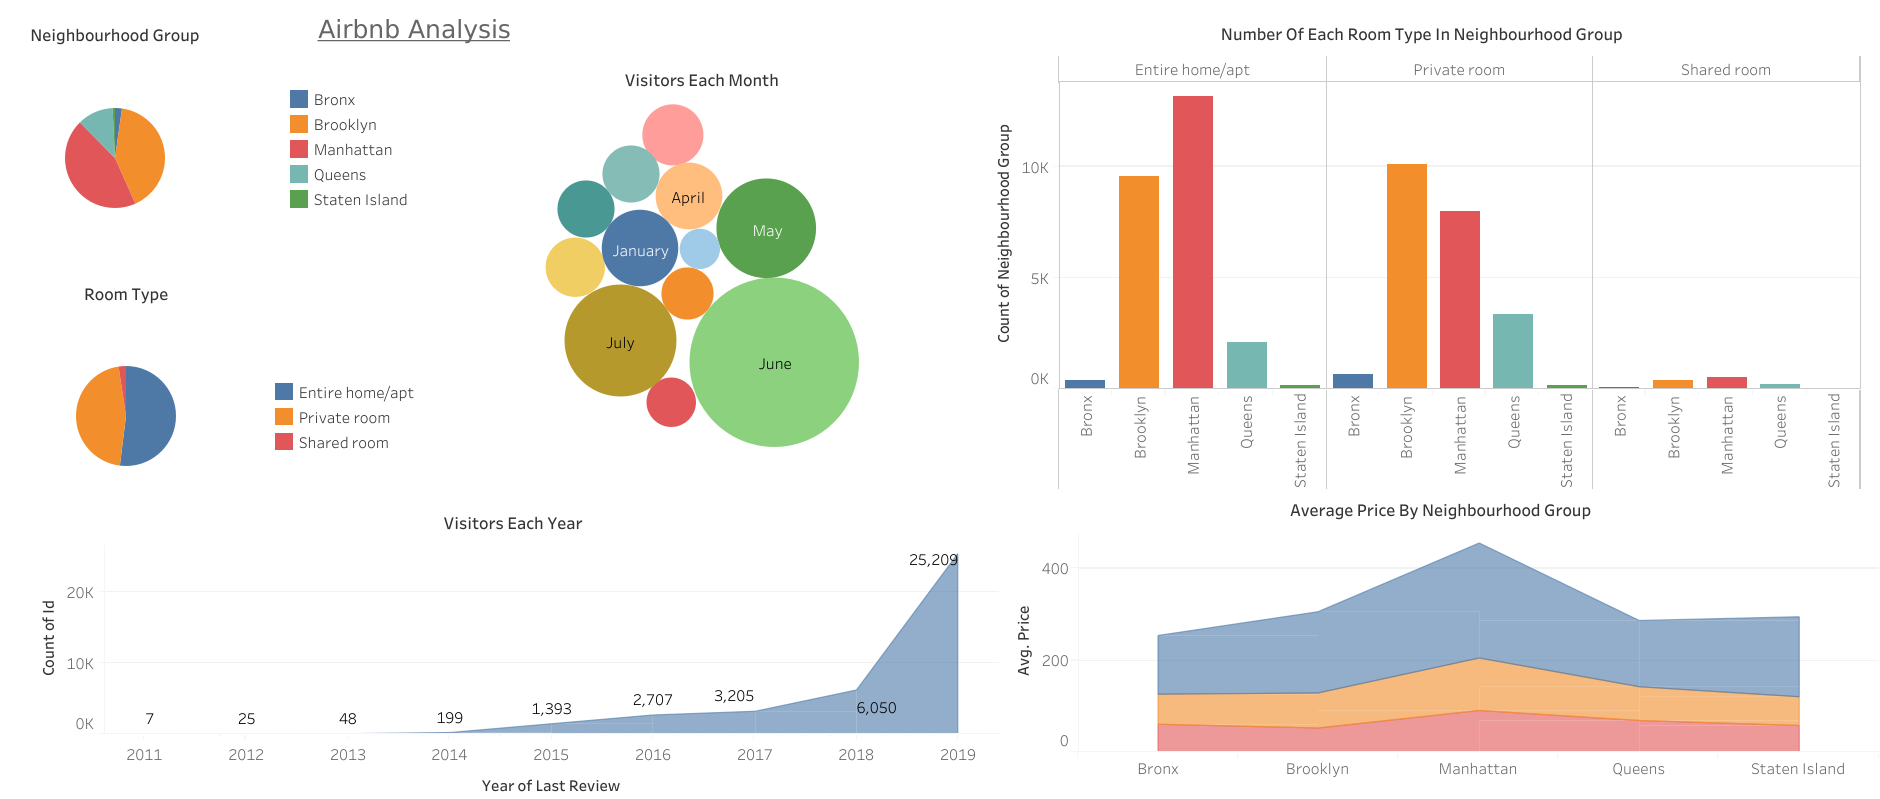

The page's visual inventory and layout, read from the dashboard file:
{"tool":"tableau","page":{"name":"Dashboard 1","canvas":[1000,1000],"units":"permille","ordinal":0},"visuals":[{"type":"worksheet","title":"Sheet 1","mark":"Pie","box":[5.2,9.3,886.5,981.4]},{"type":"worksheet","title":"Sheet 6","mark":"Automatic","rows":["neighbourhood_group"],"cols":["room_type","neighbourhood_group"],"box":[522.6,17.4,467.1,595.4]},{"type":"worksheet","title":"Sheet 4","mark":"Circle","box":[281.9,74.4,284.5,483.7]},{"type":"legend","title":"Sheet 1","param":"[federated.0ozpobe1gnkda6117nlti1aoa0l7].[none:neighbourhood_group:nk]","box":[152.3,108.1,90.3,193]},{"type":"worksheet","title":"Sheet 2","mark":"Pie","box":[14.2,341.9,134.8,358.1]},{"type":"legend","title":"Sheet 2","param":"[federated.0ozpobe1gnkda6117nlti1aoa0l7].[none:room_type:nk]","box":[143.9,473.3,116.1,119.8]},{"type":"worksheet","title":"Sheet 5","mark":"Area","rows":["price"],"cols":["neighbourhood_group"],"box":[532.9,612.8,465.8,389.5]}]}

Visuals, with their boxes on the dashboard's canvas, which has no fixed pixel size, in thousandths of its width and height (x1, y1, x2, y2). These are canvas units, not pixel positions in the 1880x799 screenshot, which may show the page scaled, cropped or inside an application window:
"Sheet 1" worksheet (Pie marks): (x1=5, y1=9, x2=892, y2=991)
"Sheet 6" worksheet: (x1=523, y1=17, x2=990, y2=613)
"Sheet 4" worksheet (Circle marks): (x1=282, y1=74, x2=566, y2=558)
"Sheet 1" legend: (x1=152, y1=108, x2=243, y2=301)
"Sheet 2" worksheet (Pie marks): (x1=14, y1=342, x2=149, y2=700)
"Sheet 2" legend: (x1=144, y1=473, x2=260, y2=593)
"Sheet 5" worksheet (Area marks): (x1=533, y1=613, x2=999, y2=1002)
